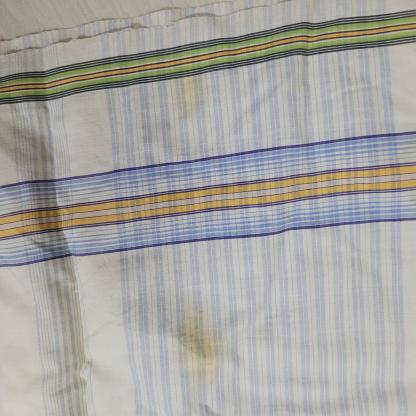spot: (143, 286, 241, 388), (162, 60, 218, 125)
